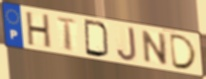D: (83, 18, 112, 59), (169, 33, 199, 71)
H: (25, 11, 53, 50)
J: (116, 26, 139, 63)
N: (141, 29, 169, 67)
T: (56, 16, 79, 54)
